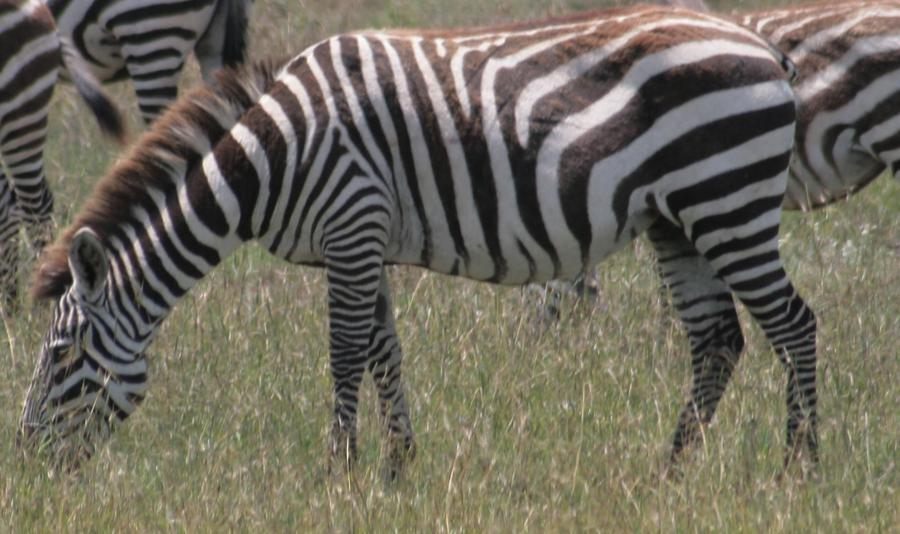zebra_plains: (263, 10, 805, 300)
